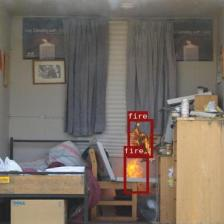fire: (127, 119, 153, 158), (124, 153, 148, 193)
